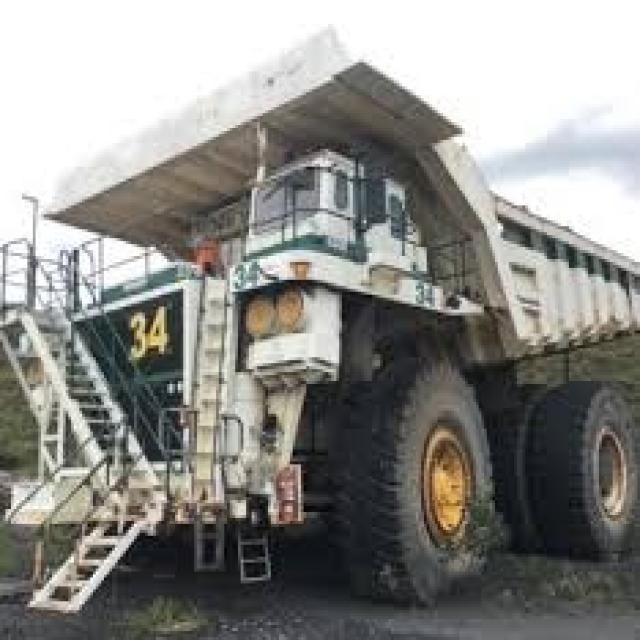dump_truck: (30, 48, 637, 637)
